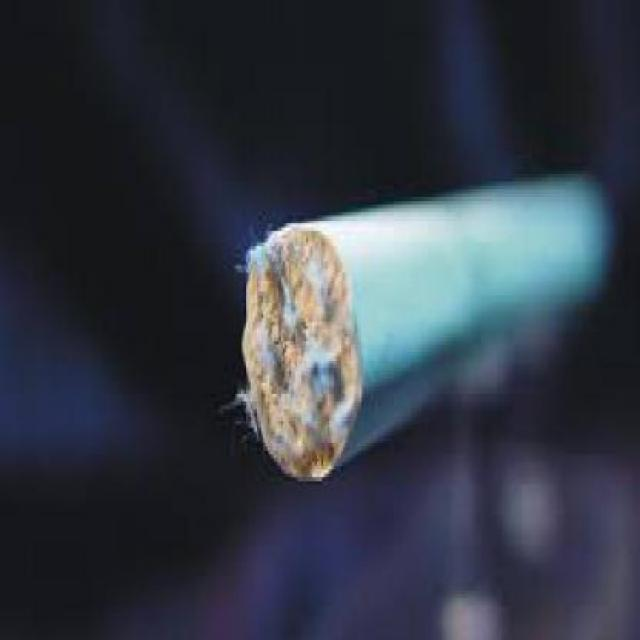cigarette: (233, 140, 613, 511)
